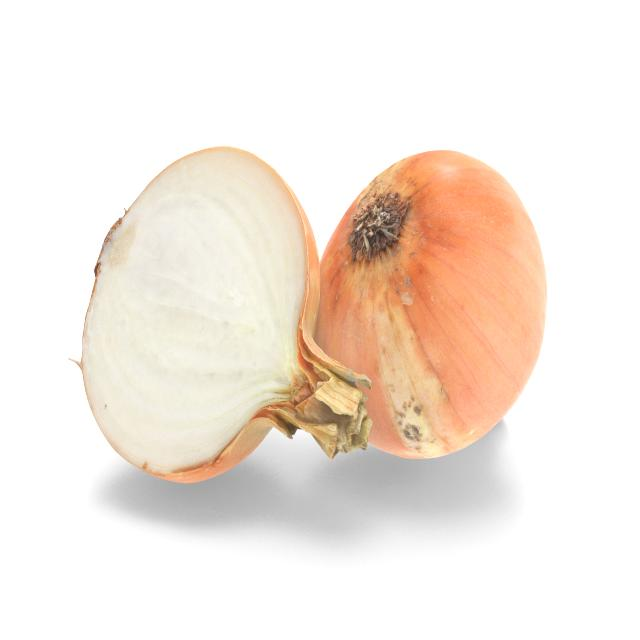onion: (74, 143, 374, 487), (316, 143, 552, 462)
